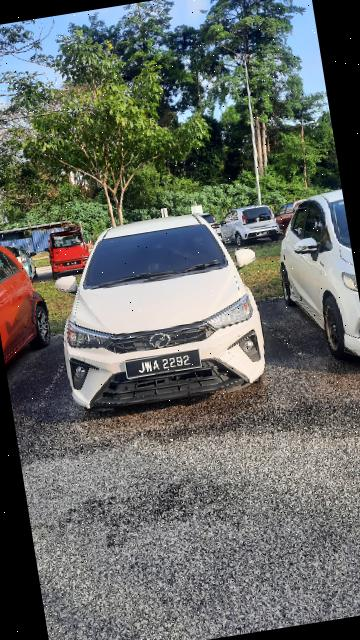License_Plate: (122, 346, 205, 384)
car: (37, 197, 278, 426), (269, 187, 360, 373)
